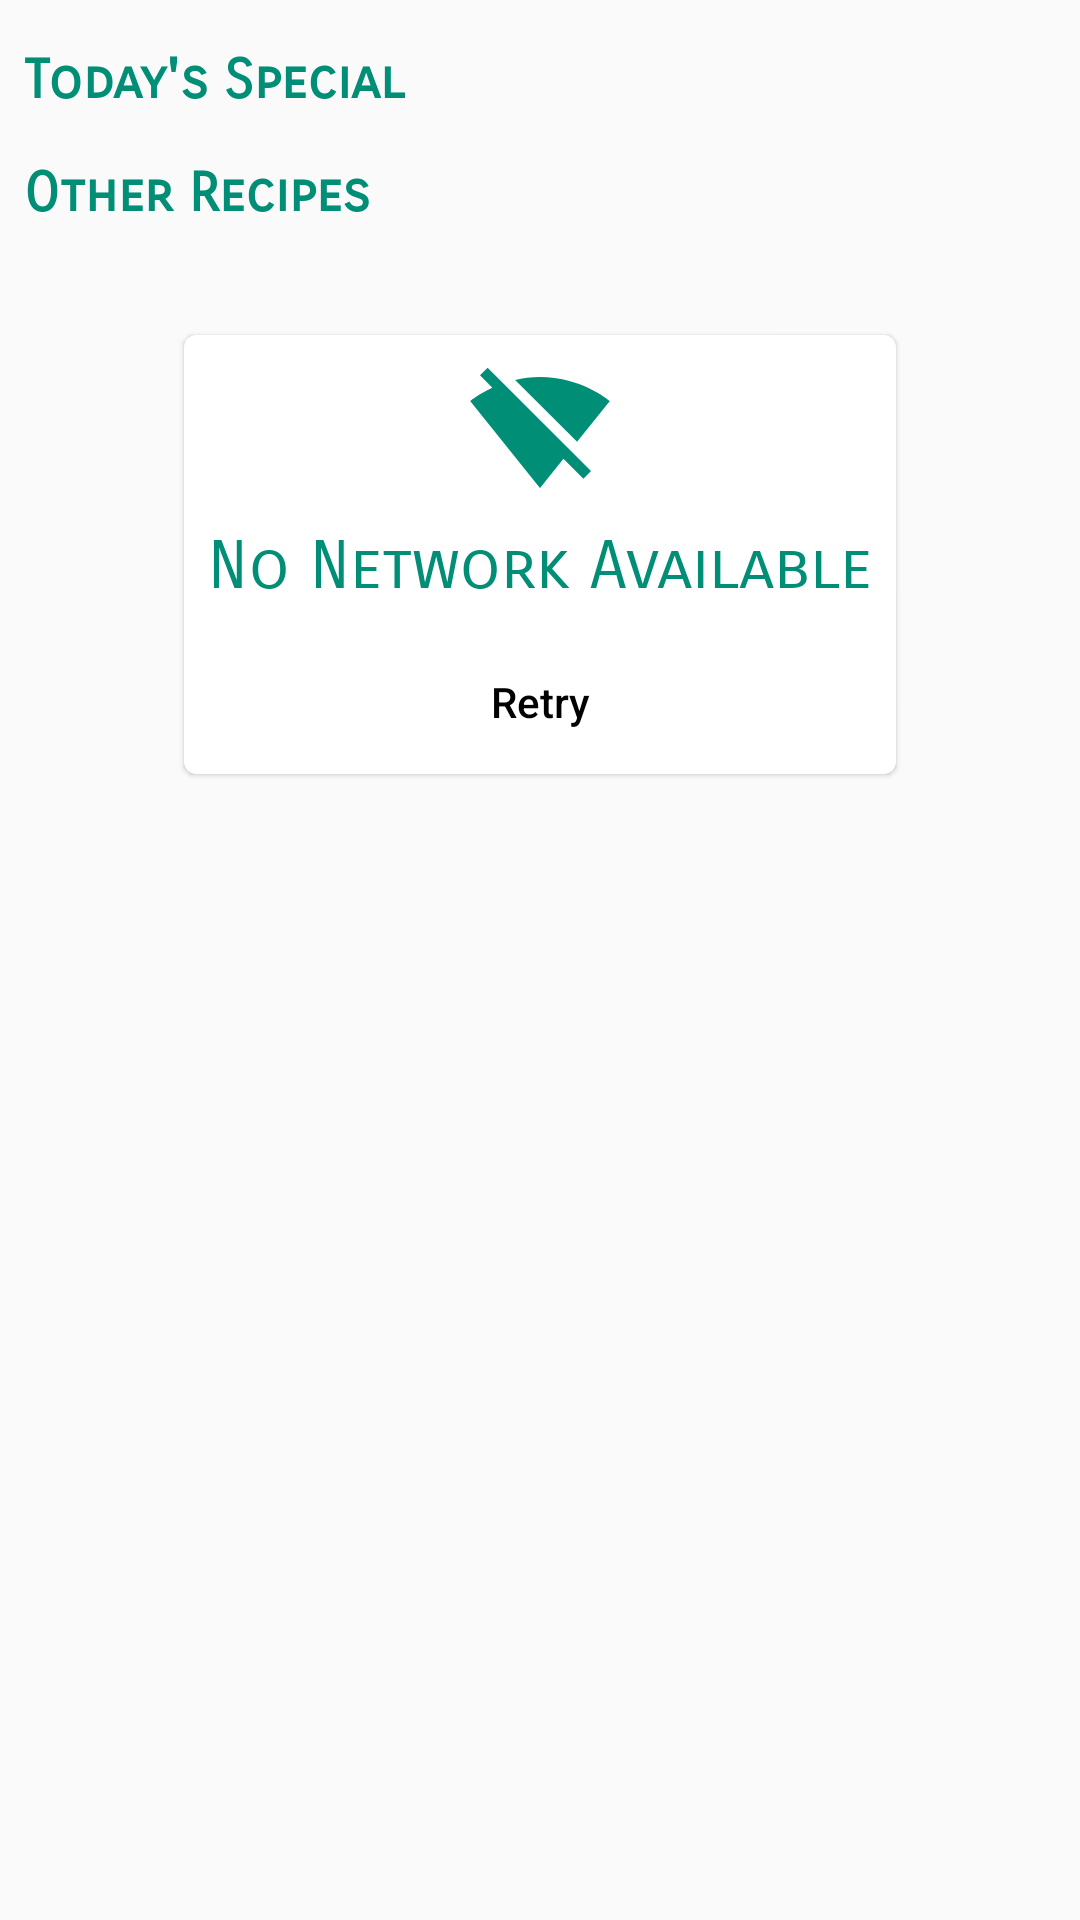

Locate icon controls on the screen. Image size 1080x1920, boxes as (x1, y1, x2, y2).
signal wifi off: (470, 368, 610, 488)
